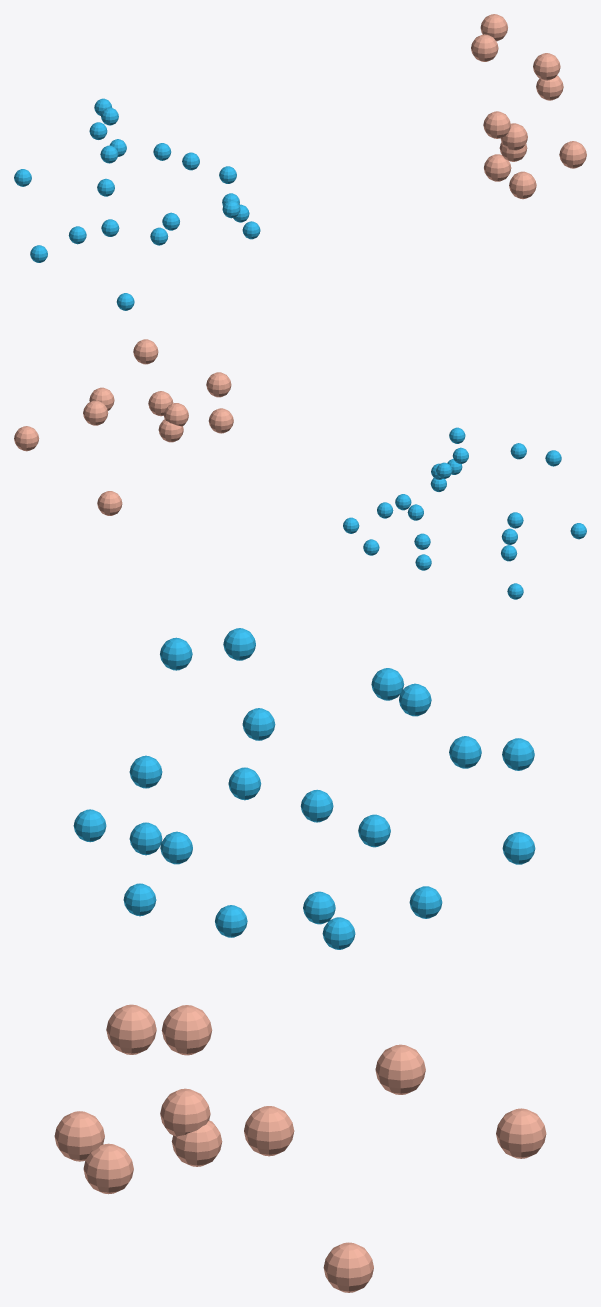
Rendered from asset.glb.
3 views of the same model, one above another, from view 1: azimuth 30°, elevation 25°; view 2: azimuth 150°, elevation 25°; view 3: azimuth 270°, elevation 25° (orthographic). The views are drawn at different scales.
Parts seen in each view (by area): view 1: O2_06, O2_08, O2_04, O2_05, O2_07, O2_00, O2_02, O2_01, O2_09; view 2: O2_06, O2_04, O2_05, O2_08, O2_02, O2_00, O2_01, O2_07, O2_03, O2_09; view 3: O2_00, O2_05, O2_02, O2_08, O2_04, O2_07, O2_09, O2_06, O2_01, O2_03, H2_01, H2_19 (+18 smaller).
Part boxes in pixels (x1=…): O2_06: x1=509, y1=171, x2=536, y2=199; O2_08: x1=533, y1=53, x2=560, y2=80; O2_04: x1=471, y1=34, x2=498, y2=61; O2_05: x1=483, y1=111, x2=510, y2=138; O2_07: x1=559, y1=141, x2=586, y2=168; O2_00: x1=484, y1=154, x2=511, y2=181; O2_02: x1=480, y1=14, x2=507, y2=41; O2_01: x1=500, y1=123, x2=527, y2=150; O2_09: x1=536, y1=75, x2=563, y2=100; O2_06: x1=208, y1=408, x2=233, y2=433; O2_04: x1=83, y1=400, x2=108, y2=425; O2_05: x1=206, y1=372, x2=231, y2=397; O2_08: x1=133, y1=339, x2=158, y2=364; O2_02: x1=14, y1=426, x2=39, y2=451; O2_00: x1=97, y1=491, x2=122, y2=515; O2_01: x1=164, y1=403, x2=188, y2=426; O2_07: x1=148, y1=391, x2=173, y2=416; O2_03: x1=158, y1=419, x2=183, y2=442; O2_09: x1=89, y1=387, x2=114, y2=410; O2_00: x1=323, y1=1242, x2=373, y2=1292; O2_05: x1=106, y1=1004, x2=156, y2=1054; O2_02: x1=496, y1=1108, x2=546, y2=1158; O2_08: x1=161, y1=1005, x2=212, y2=1055; O2_04: x1=375, y1=1044, x2=425, y2=1094; O2_07: x1=83, y1=1143, x2=133, y2=1194; O2_09: x1=244, y1=1106, x2=294, y2=1156; O2_06: x1=54, y1=1111, x2=104, y2=1161; O2_01: x1=160, y1=1088, x2=210, y2=1136; O2_03: x1=171, y1=1120, x2=222, y2=1166; H2_01: x1=73, y1=809, x2=106, y2=842; H2_19: x1=129, y1=755, x2=162, y2=788.
Size of the model in its own units: 8.68 by 2.52 by 3.89.
